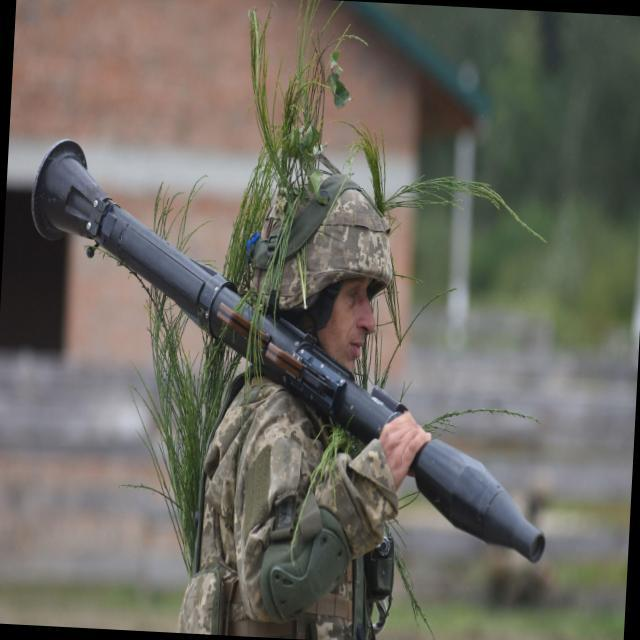rocket: (8, 139, 565, 563)
